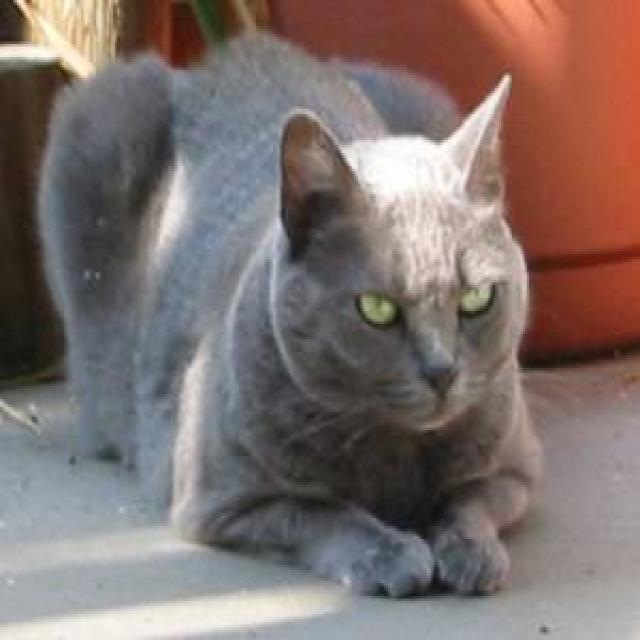Russian_Blue: (267, 68, 532, 433)
